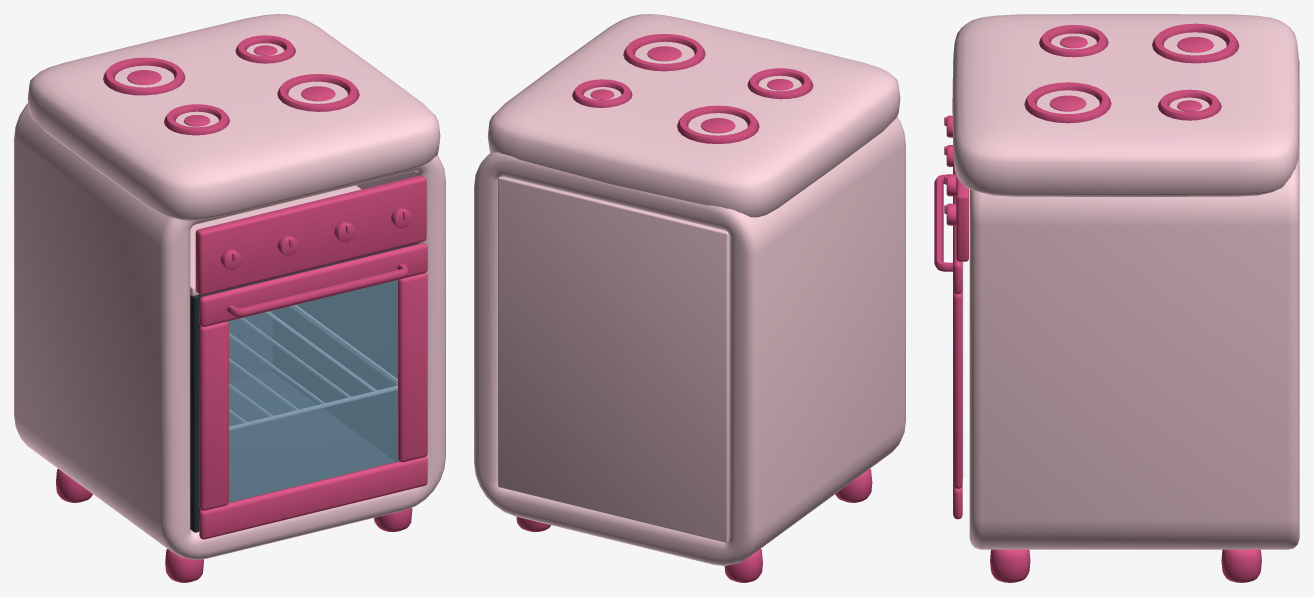
File: fogao_retro_fofo_rosa.glb
3 views of the same model, side by side, from view 1: azimuth 30°, elevation 25°; view 2: azimuth 150°, elevation 25°; view 3: azimuth 270°, elevation 25° (orthographic). The views are drawn at different scales.
Visible parts, largest first — view 1: fogao_retro_fofo_rosa, porta_forno; view 2: fogao_retro_fofo_rosa; view 3: fogao_retro_fofo_rosa, porta_forno.
Boxes of the visible parts, box(x1,y1,x2,y2) form: fogao_retro_fofo_rosa: box(14, 14, 445, 582); porta_forno: box(199, 243, 427, 539); fogao_retro_fofo_rosa: box(474, 14, 905, 582); fogao_retro_fofo_rosa: box(944, 14, 1299, 582); porta_forno: box(934, 167, 963, 519).
Bounding box in the file's own units: 0.6 × 0.8675 × 0.631.
2 materials, 1 textured.
